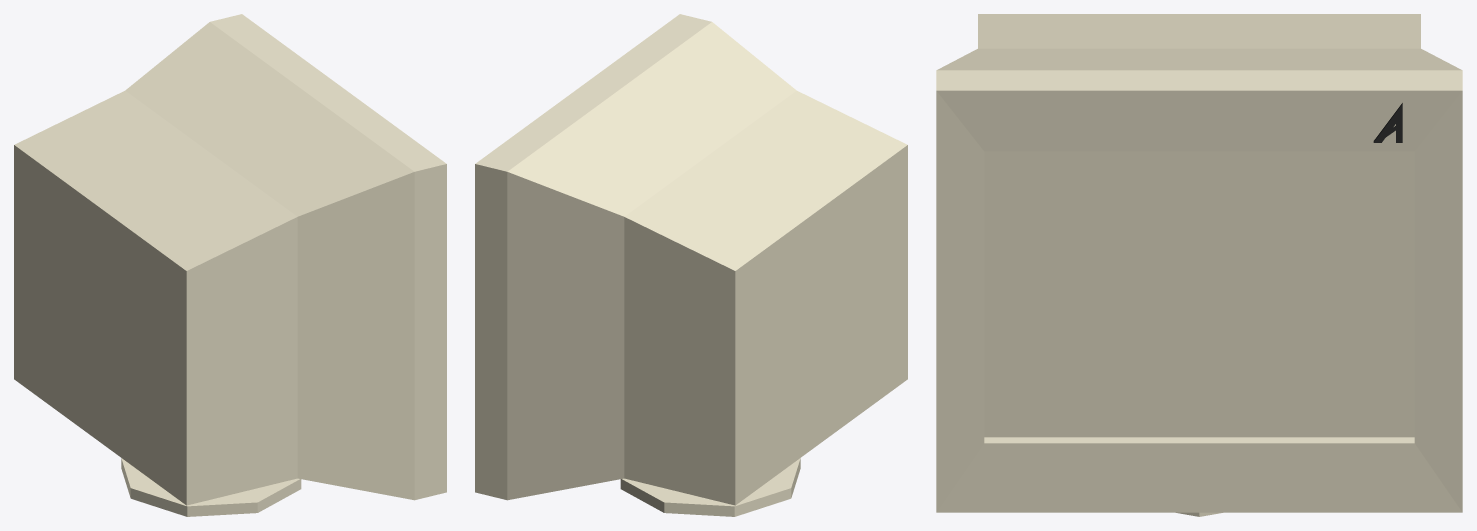
Rendered from monitor-CRT-4_3.fbx.
3 renders of one model, left to right at view 1: azimuth 30°, elevation 25°; view 2: azimuth 150°, elevation 25°; view 3: azimuth 270°, elevation 25°, orthographic. The views are drawn at different scales.
Visible parts, largest first — view 1: Cube.001; view 2: Cube.001; view 3: Cube.001.
Part boxes in pixels (box(x1,y1,x2,y2)): Cube.001: box(14, 14, 446, 516); Cube.001: box(475, 14, 907, 516); Cube.001: box(936, 14, 1462, 516).
Size of the model in its own units: 306 by 424 by 440.
